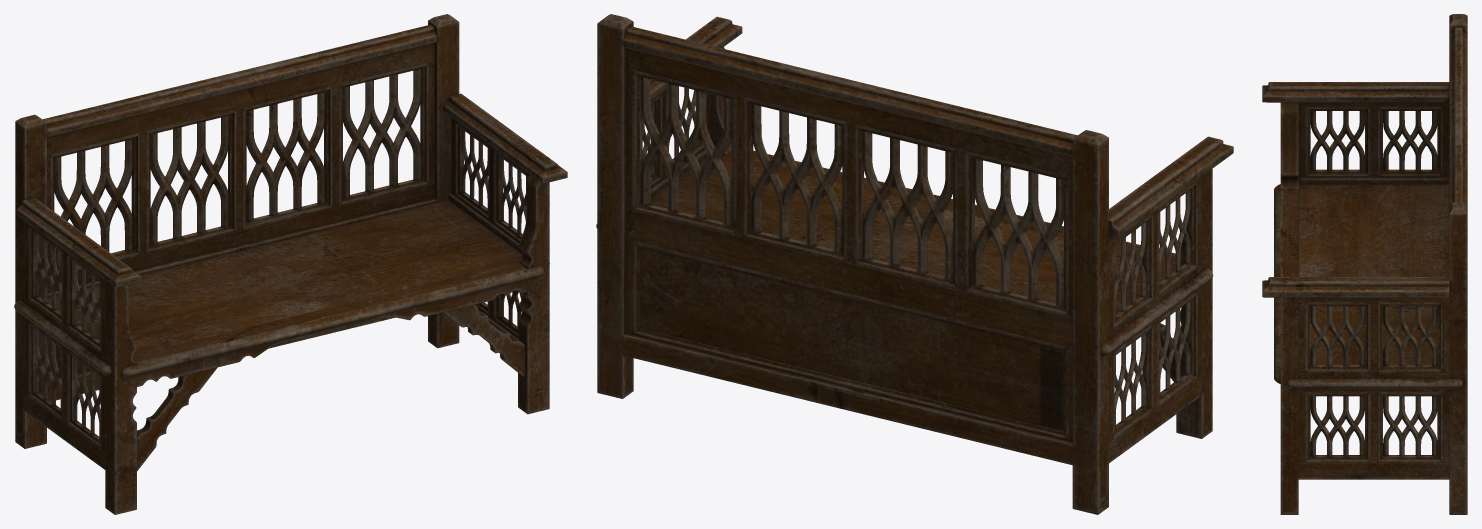
File: furniture_6-transformed.glb
The picture shows the model from 3 angles, left to right: view 1: azimuth 30°, elevation 25°; view 2: azimuth 150°, elevation 25°; view 3: azimuth 270°, elevation 25°; orthographic projection. The views are drawn at different scales.
Parts seen in each view (by area): view 1: L_Medieval_chair; view 2: L_Medieval_chair; view 3: L_Medieval_chair.
Part boxes in pixels (x1,y1,x2,y2): L_Medieval_chair: [14, 14, 567, 514]; L_Medieval_chair: [596, 14, 1233, 514]; L_Medieval_chair: [1262, 14, 1467, 514].
Bounding box in the file's own units: 1.62 × 1.11 × 0.68.
Materials: 1 (1 with a texture image).
